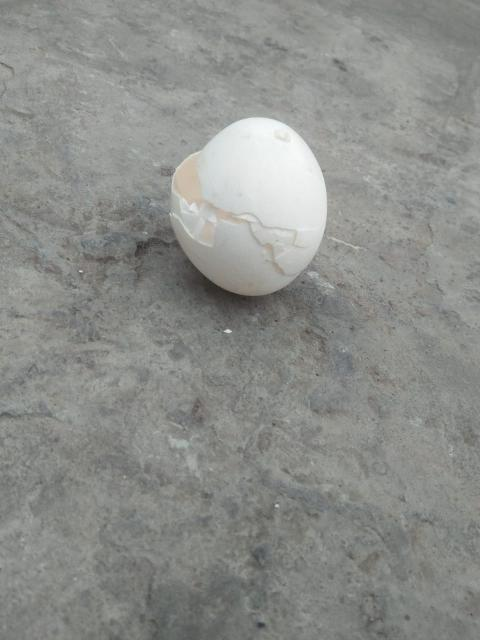Roto: (168, 115, 328, 296)
